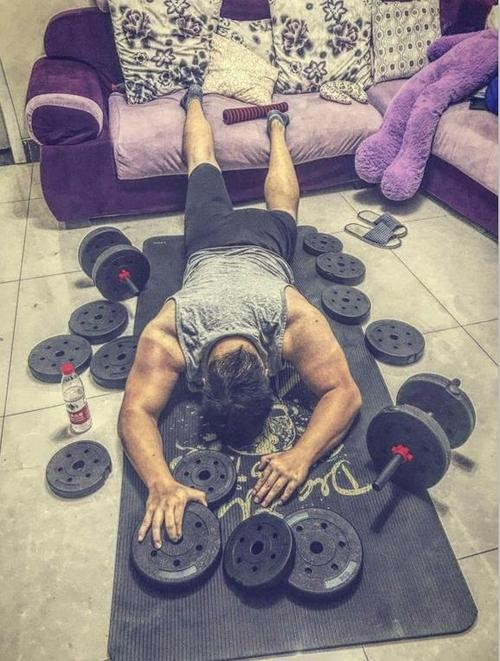falling: (96, 74, 366, 567)
